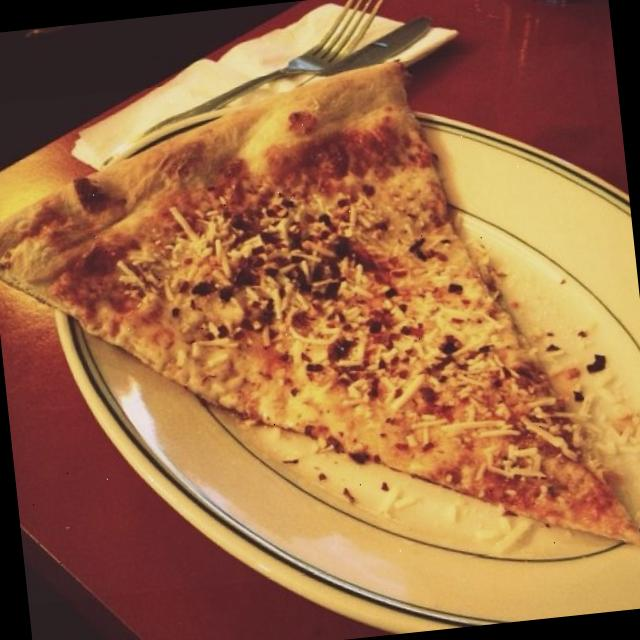pizza: (0, 62, 640, 541)
